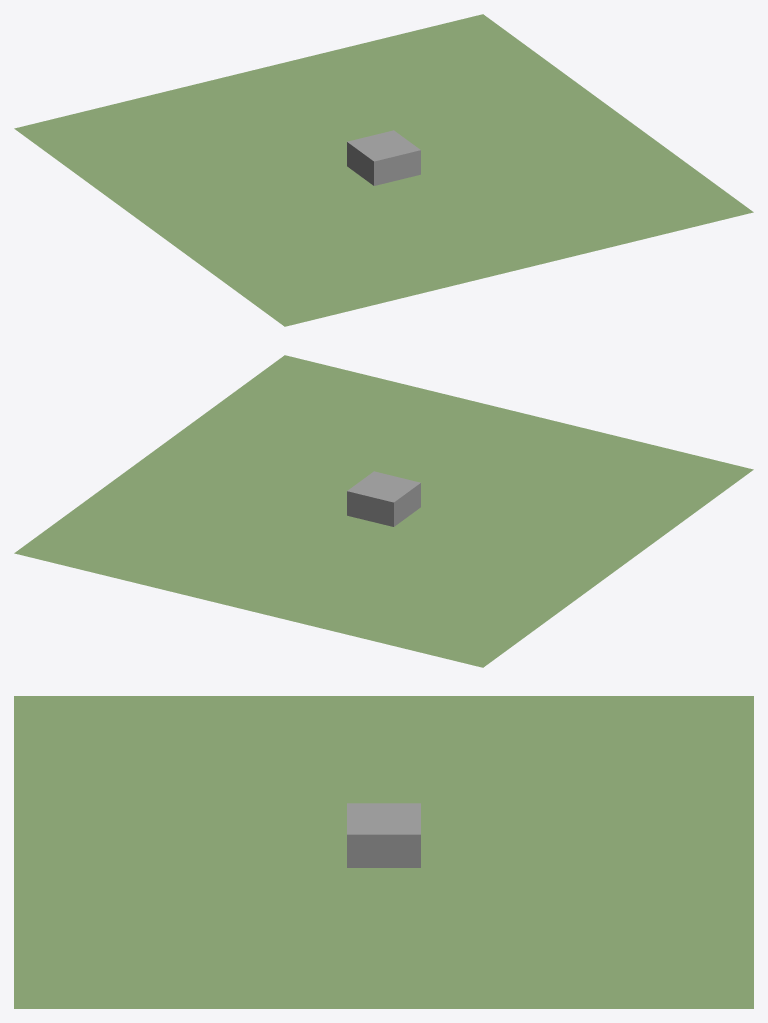
3 renders of one model, top to bottom at view 1: azimuth 30°, elevation 25°; view 2: azimuth 150°, elevation 25°; view 3: azimuth 270°, elevation 25°, orthographic. The views are drawn at different scales.
Visible parts, largest first — view 1: Ground, Building_0; view 2: Ground, Building_0; view 3: Ground, Building_0.
Part boxes in pixels (x1,y1,x2,y2): Ground: (14,14,753,326); Building_0: (347,130,420,185); Ground: (14,355,753,667); Building_0: (347,471,420,526); Ground: (14,696,753,1008); Building_0: (347,803,420,867).
Bounding box in the file's own units: 50 × 5 × 50.
